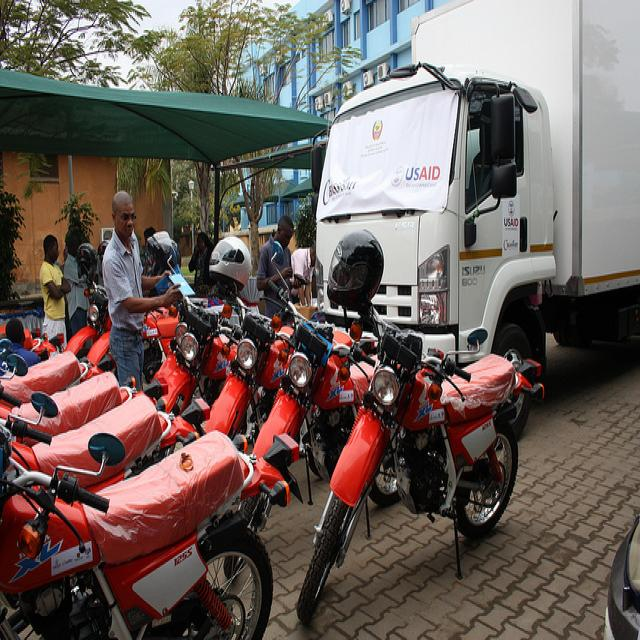motor: (295, 305, 546, 628), (2, 419, 289, 631), (254, 275, 378, 503), (0, 353, 144, 447), (1, 388, 171, 466), (208, 309, 288, 455), (151, 295, 244, 416), (79, 301, 179, 388), (1, 348, 91, 401), (66, 263, 109, 361)
